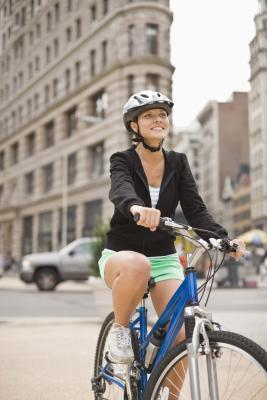helmet: (122, 91, 175, 141)
